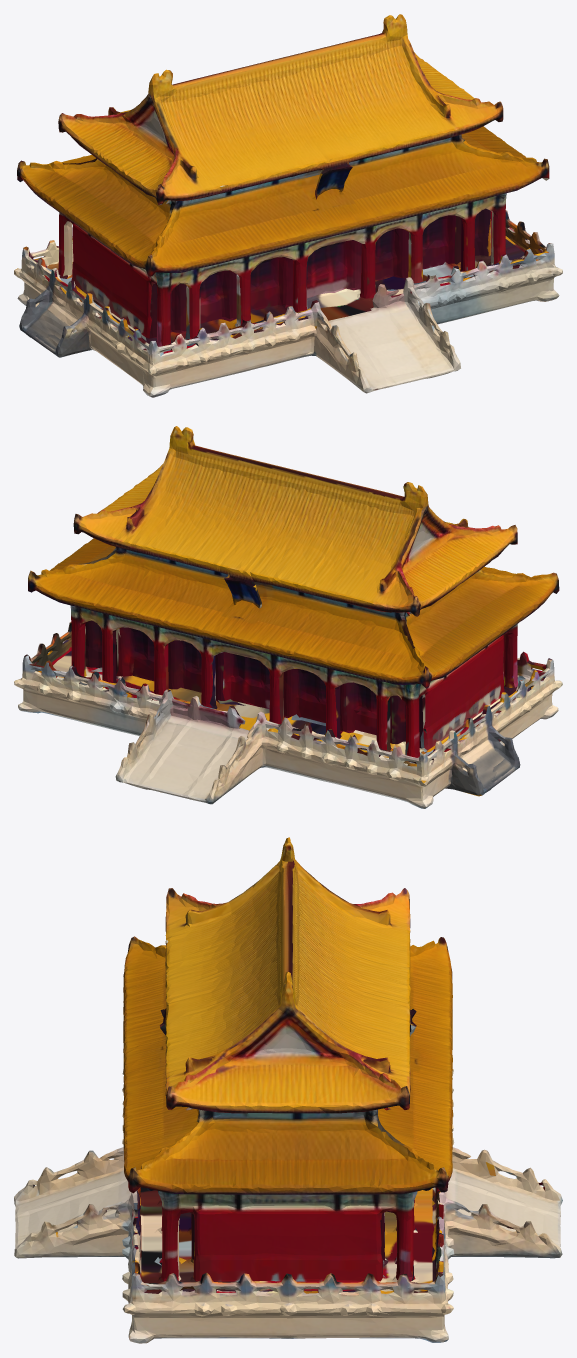
File: mdl_palace_001.glb
3 renders of one model, top to bottom at view 1: azimuth 30°, elevation 25°; view 2: azimuth 150°, elevation 25°; view 3: azimuth 270°, elevation 25°, orthographic. The views are drawn at different scales.
Visible parts, largest first — view 1: tmprn0k8huj.ply; view 2: tmprn0k8huj.ply; view 3: tmprn0k8huj.ply.
Boxes of the visible parts, x1,y1,x2,y2 form: tmprn0k8huj.ply: [14, 14, 562, 397]; tmprn0k8huj.ply: [14, 426, 562, 808]; tmprn0k8huj.ply: [14, 837, 562, 1343].
Bounding box in the file's own units: 0.9919 × 0.5666 × 0.8968.
1 material, 1 textured.
